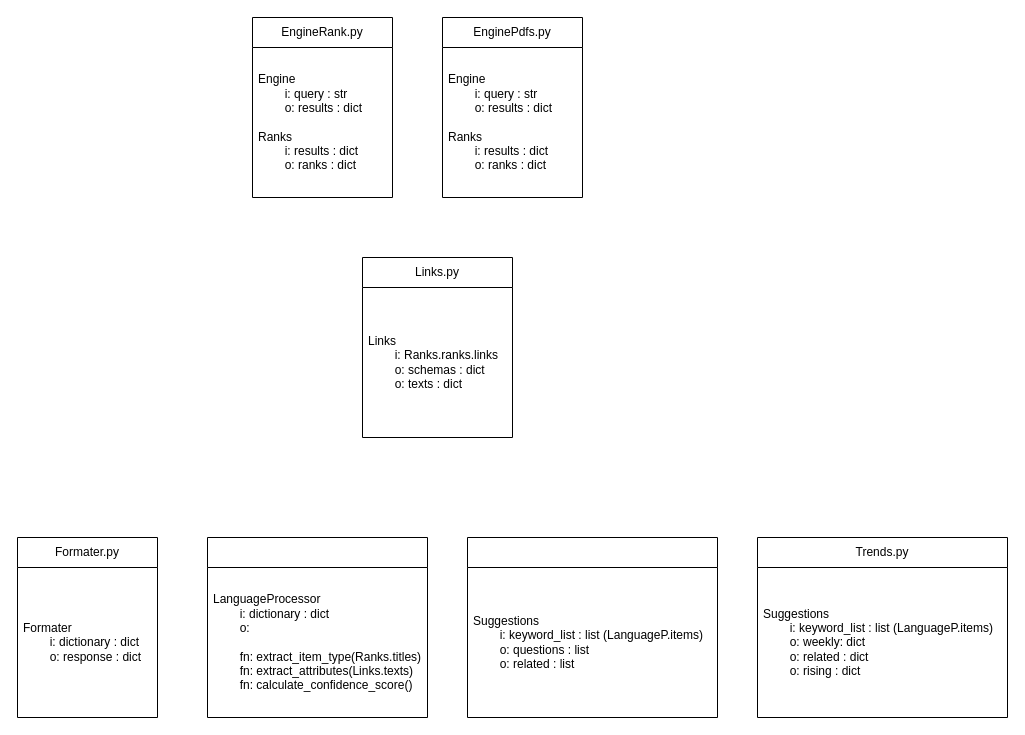
Image size: 1025x735. Some labels were removed from this diagram. The box of each missing label's shape, as (x1, y1, x2, y2) in pixels:
LanguageProcessor.py: (206, 536, 428, 718)
Suggestions.py: (466, 536, 718, 718)
